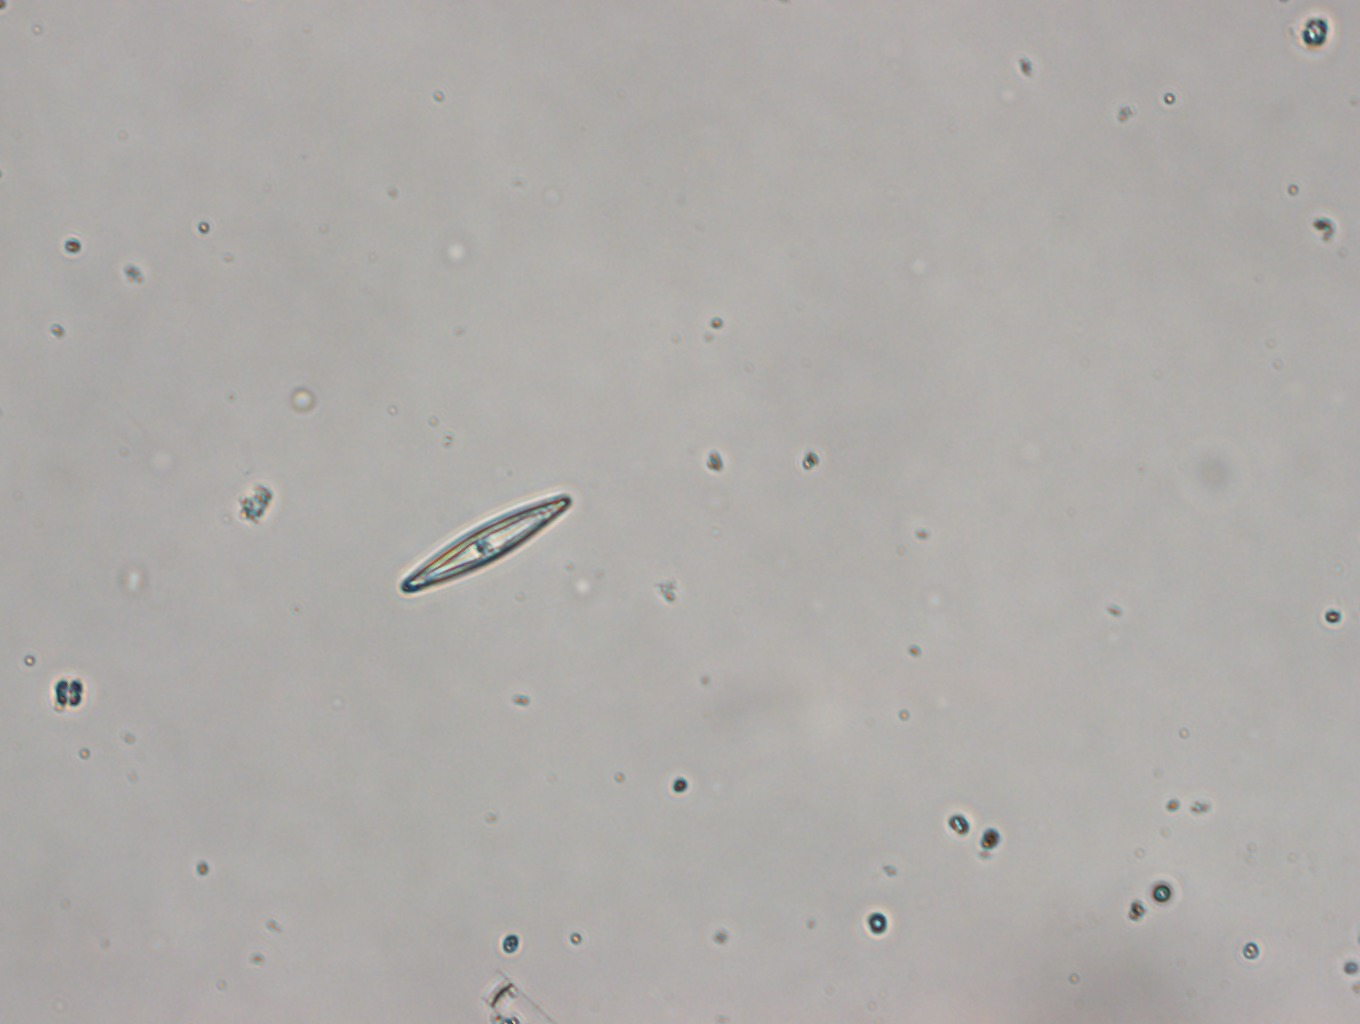navicula: (399, 490, 576, 598)
